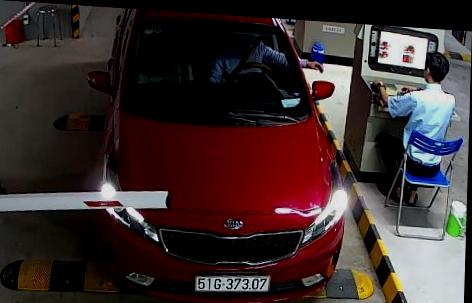License_Plate: (193, 269, 273, 296)
